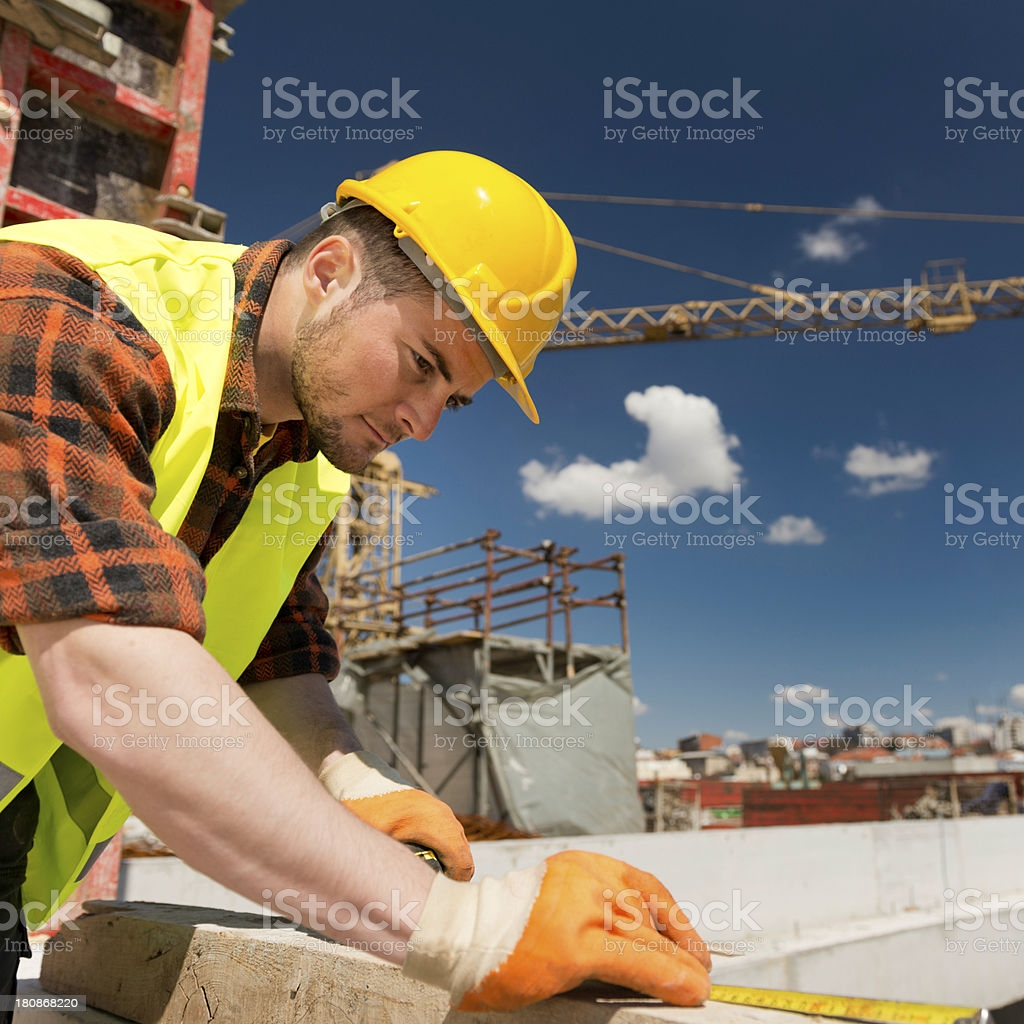With Helmet: (273, 130, 587, 487)
